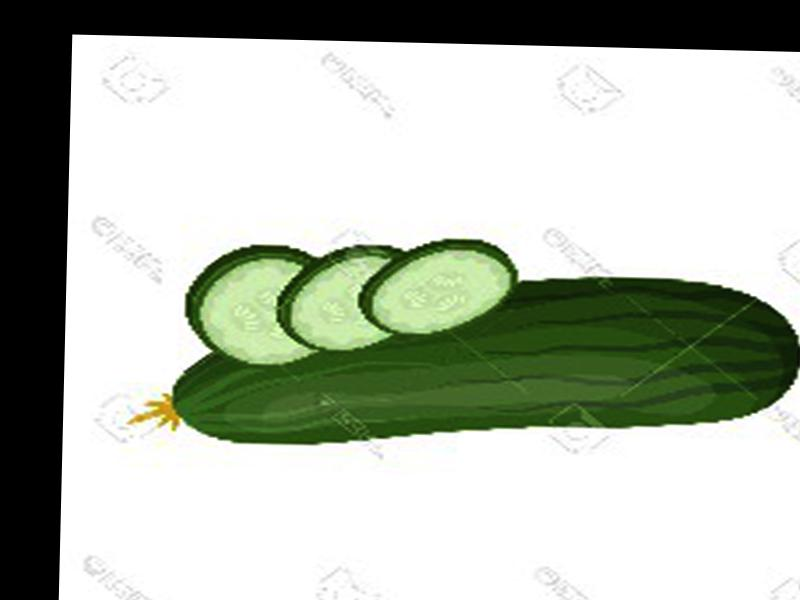Cucumber: (133, 265, 800, 456)
